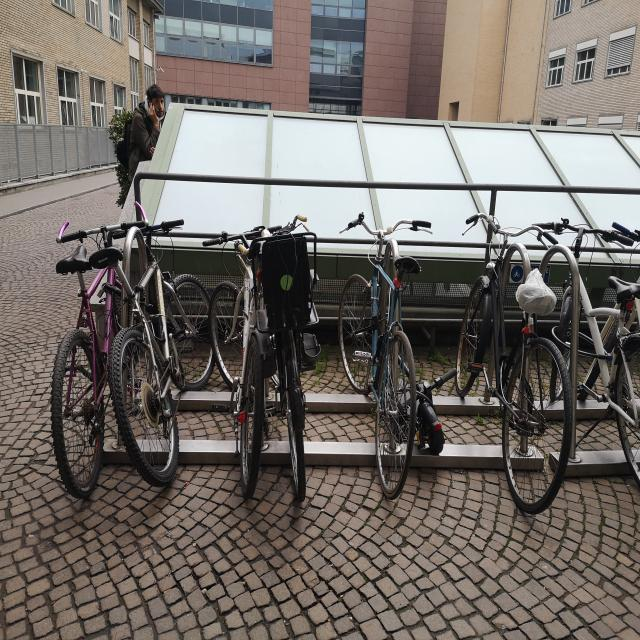Bicycle: (447, 182, 571, 508), (100, 210, 206, 490), (51, 195, 141, 495), (338, 213, 426, 500), (546, 215, 640, 471), (214, 207, 268, 494), (266, 198, 314, 485)
